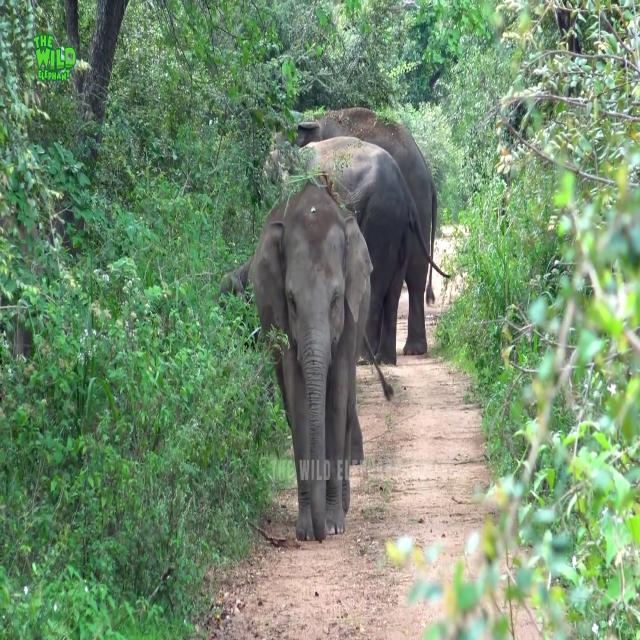Elephant: (218, 180, 392, 543), (262, 133, 450, 366)
